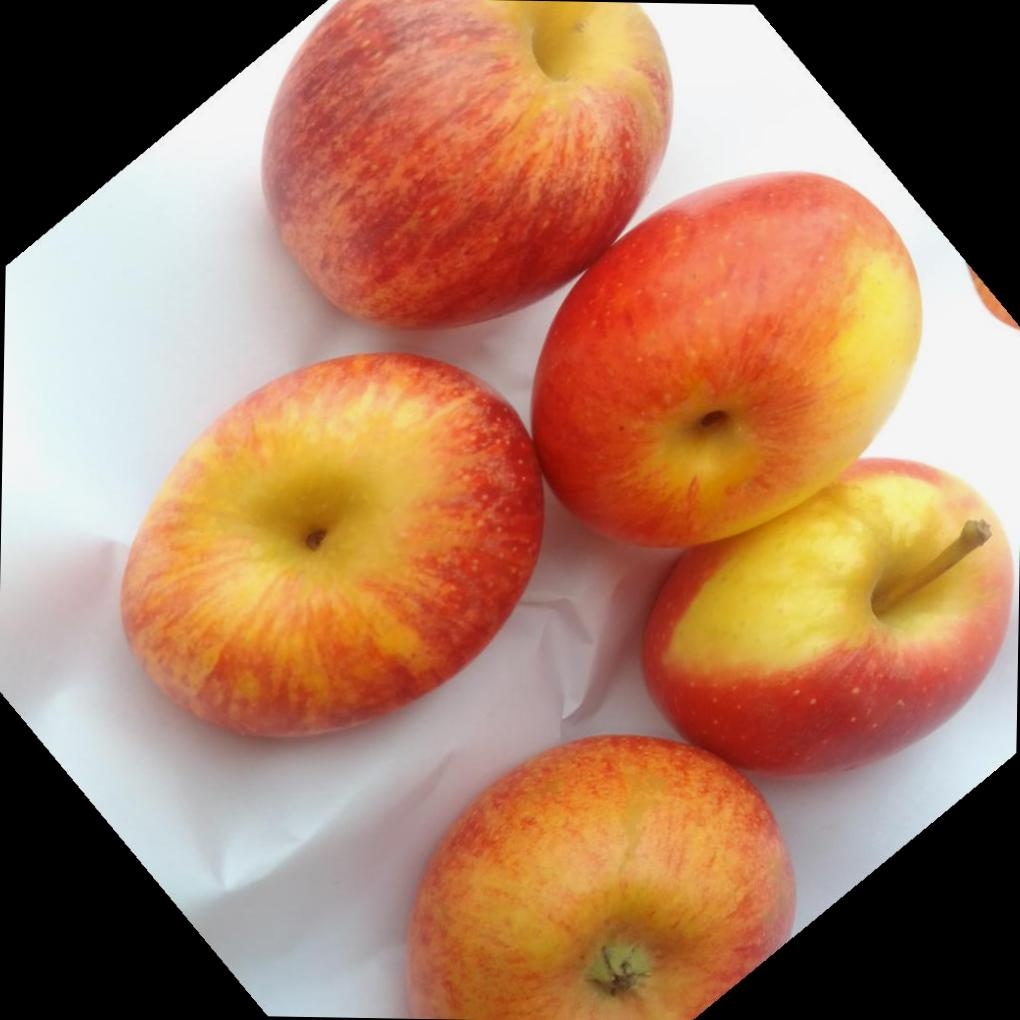FreshGuava: (116, 1, 1011, 1020)
